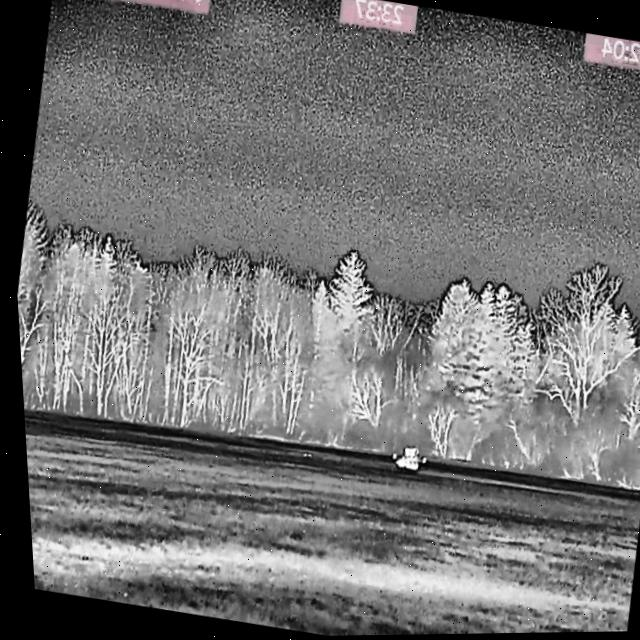drone: (382, 442, 422, 476)
